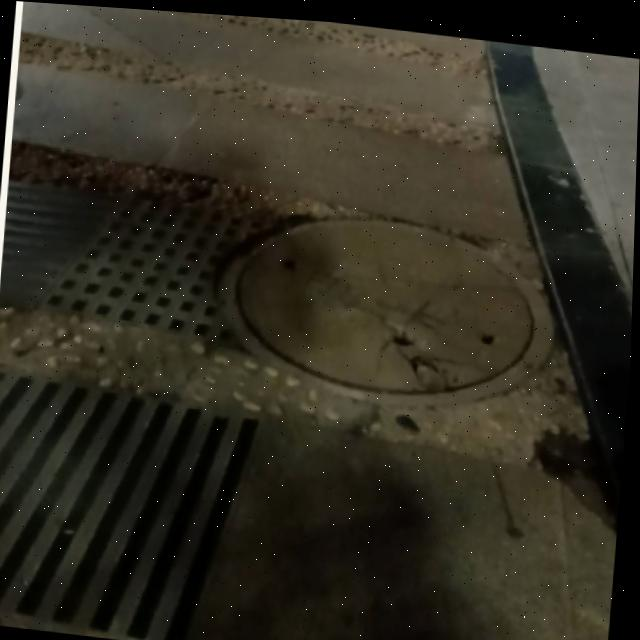manhole: (210, 186, 569, 411)
